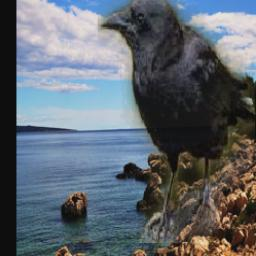Crow: (99, 0, 256, 244)
